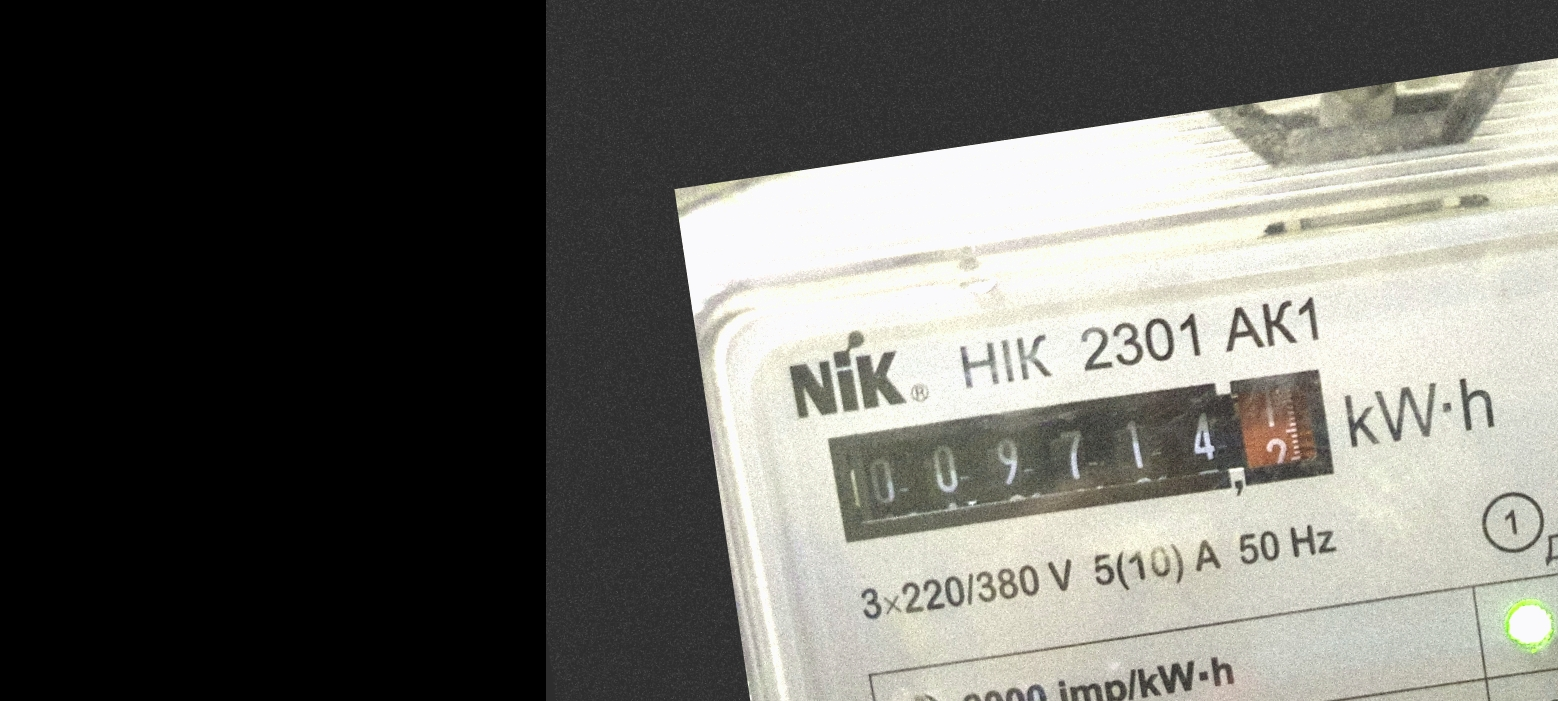0: (865, 452, 901, 509), (928, 439, 962, 496)
1: (1120, 414, 1151, 472), (1259, 386, 1279, 430)
2: (1263, 433, 1291, 466)
4: (1185, 408, 1221, 465)
7: (1057, 426, 1090, 483)
9: (990, 432, 1026, 488)
screen: (811, 347, 1354, 566)
